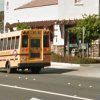Bus: (3, 25, 55, 77)
